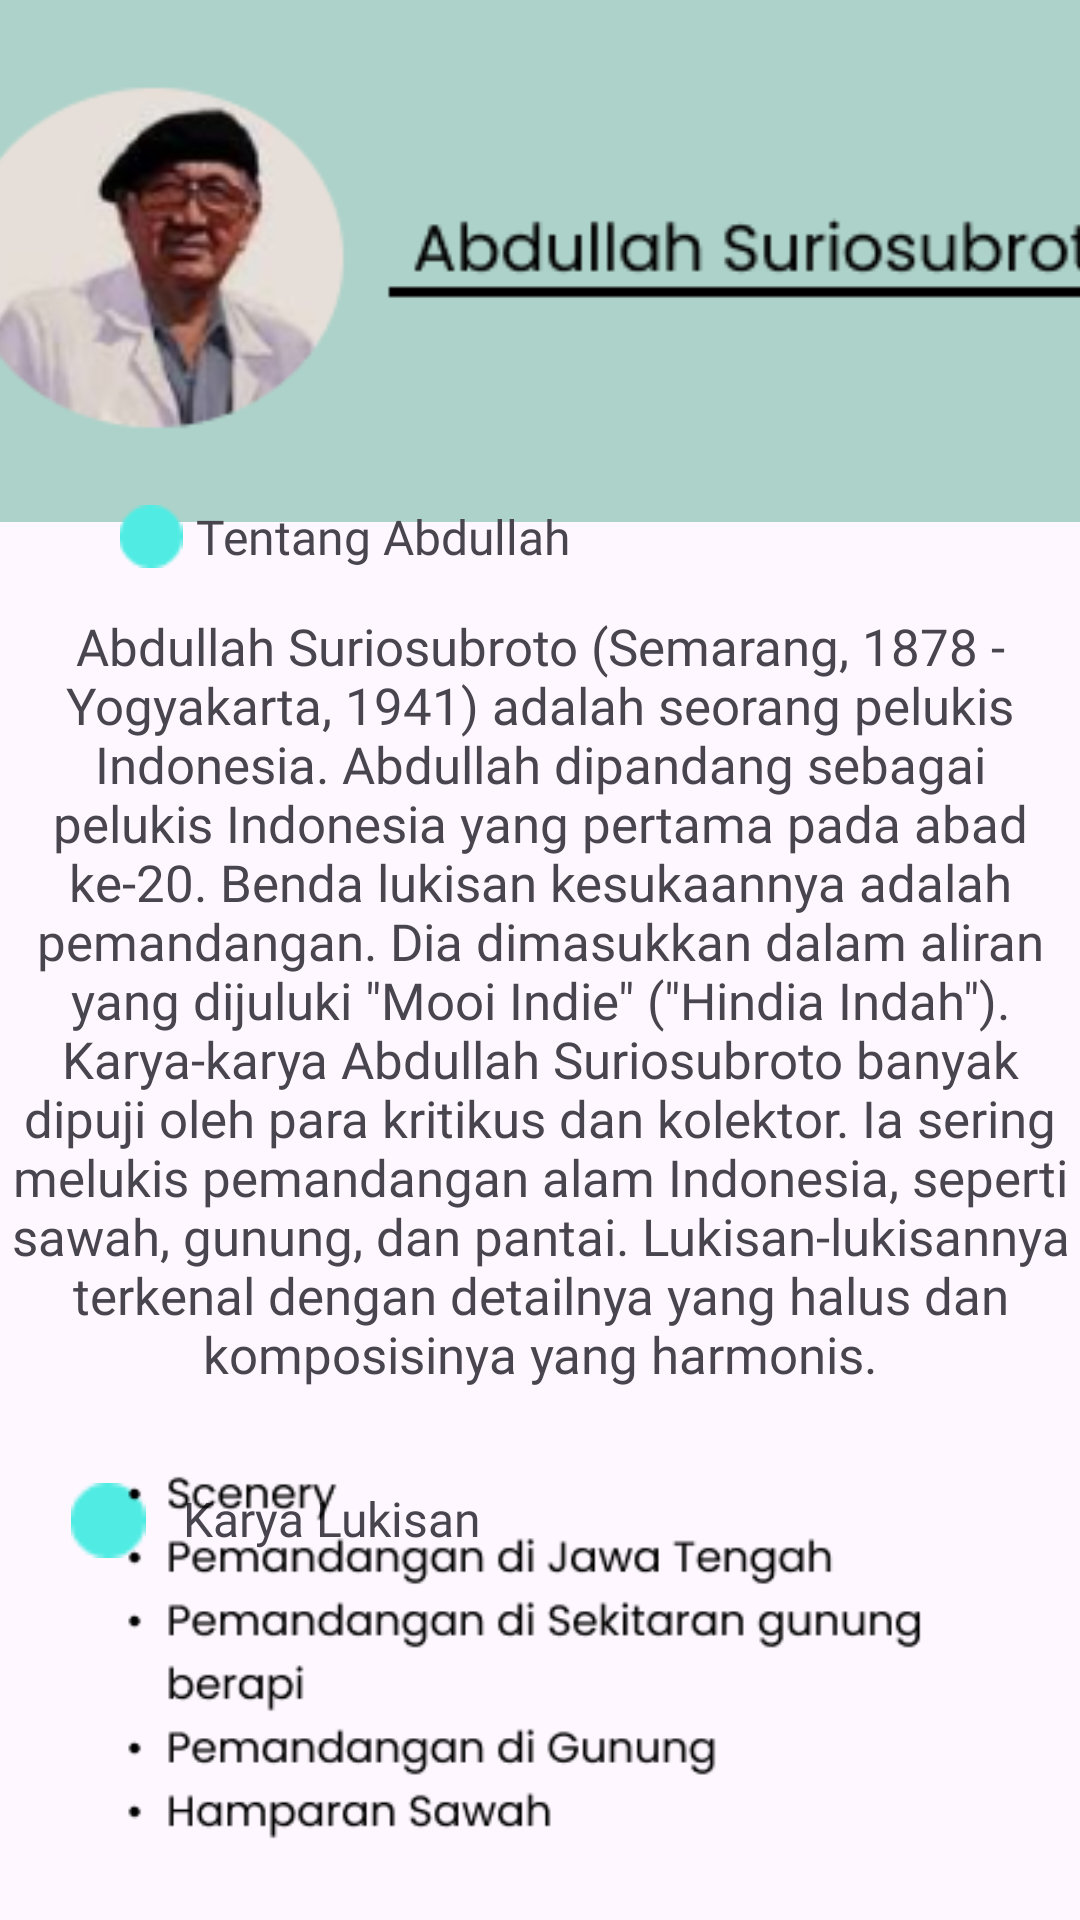

Icon click points for this 1080×1920 phone screenshot, format (x=x, y=y):
bulet: (x=151, y=536), (x=108, y=1520)
